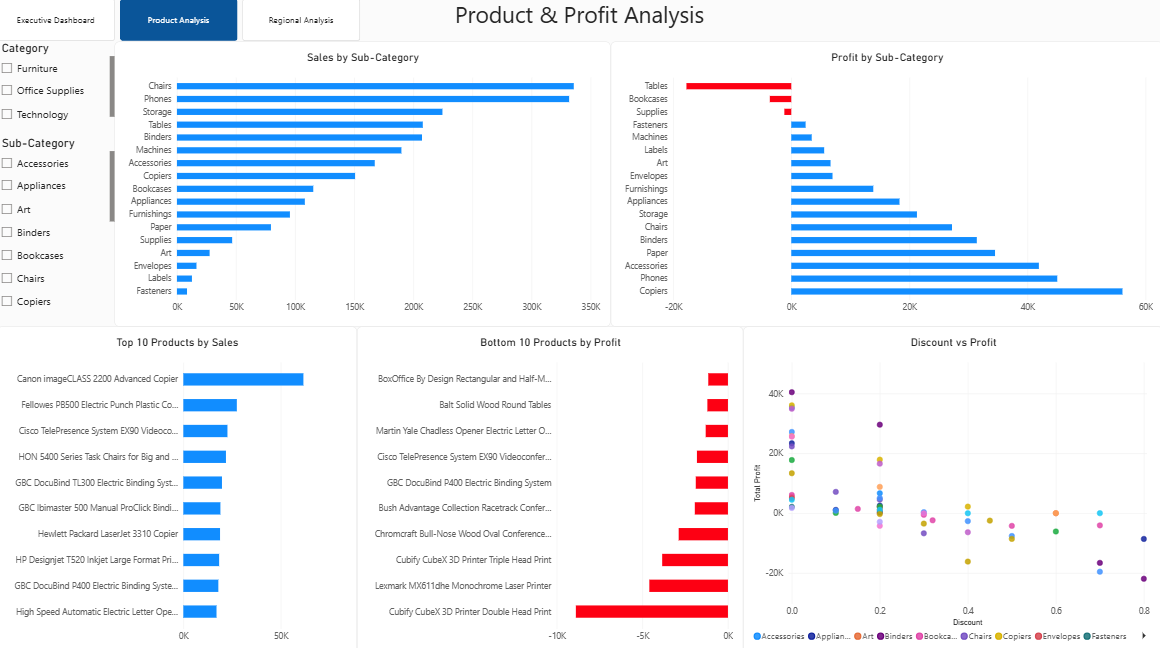

The page's visual inventory and layout, read from the dashboard file:
{"tool":"powerbi","page":{"name":"Product Analysis","canvas":[1920,1080],"ordinal":1},"visuals":[{"type":"textbox","box":[734.8,0,448.7,339.6],"z":0},{"type":"barChart","title":"Sales by Sub-Category","fields":{"Category":["SalesData.Sub-Category"],"Y":["DateTable.Total Sales"]},"box":[193.5,70,817.2,469.3],"z":1000},{"type":"barChart","title":"Profit by Sub-Category","fields":{"Category":["SalesData.Sub-Category"],"Y":["DateTable.Total Profit"]},"box":[1010.6,70,909.8,469.3],"z":2000},{"type":"barChart","title":"Top 10 Products by Sales","fields":{"Category":["SalesData.Product Name"],"Y":["DateTable.Total Sales"]},"box":[0,539.3,592.8,541.3],"z":3000},{"type":"barChart","title":"Bottom 10 Products by Profit","fields":{"Category":["SalesData.Product Name"],"Y":["DateTable.Total Profit"]},"box":[592.8,539.3,636,541.3],"z":4000},{"type":"scatterChart","title":"Discount vs Profit","fields":{"Series":["SalesData.Sub-Category"],"X":["SalesData.Discount"],"Y":["DateTable.Total Profit"]},"box":[1228.8,539.3,691.6,541.3],"z":5000},{"type":"slicer","fields":{"Values":["SalesData.Category"]},"box":[0,70,193.5,135.8],"z":6000},{"type":"slicer","fields":{"Values":["SalesData.Sub-Category"]},"box":[0,226.4,193.5,298.5],"z":7000},{"type":"pageNavigator","box":[0,0,599,70],"z":8000}]}

Visuals, with their boxes on the page's 1920x1080 design canvas (x1, y1, x2, y2). These are canvas units, not pixel positions in the 1160x648 screenshot, which may show the page scaled, cropped or inside an application window:
textbox: 735, 0, 1184, 340
"Sales by Sub-Category" barChart: 194, 70, 1011, 539
"Profit by Sub-Category" barChart: 1011, 70, 1920, 539
"Top 10 Products by Sales" barChart: 0, 539, 593, 1081
"Bottom 10 Products by Profit" barChart: 593, 539, 1229, 1081
"Discount vs Profit" scatterChart: 1229, 539, 1920, 1081
slicer - SalesData.Category: 0, 70, 194, 206
slicer - SalesData.Sub-Category: 0, 226, 194, 525
pageNavigator: 0, 0, 599, 70
